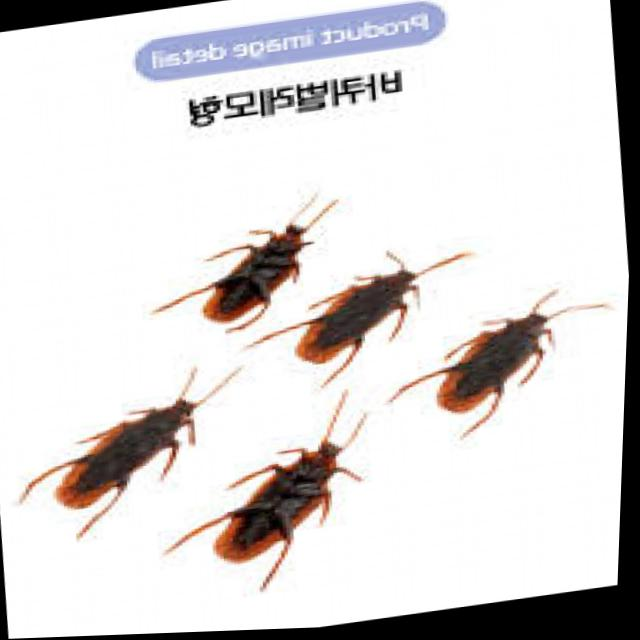Cockroach: (350, 269, 629, 464), (149, 413, 422, 604), (147, 165, 382, 382), (1, 360, 254, 544), (245, 221, 479, 414)
